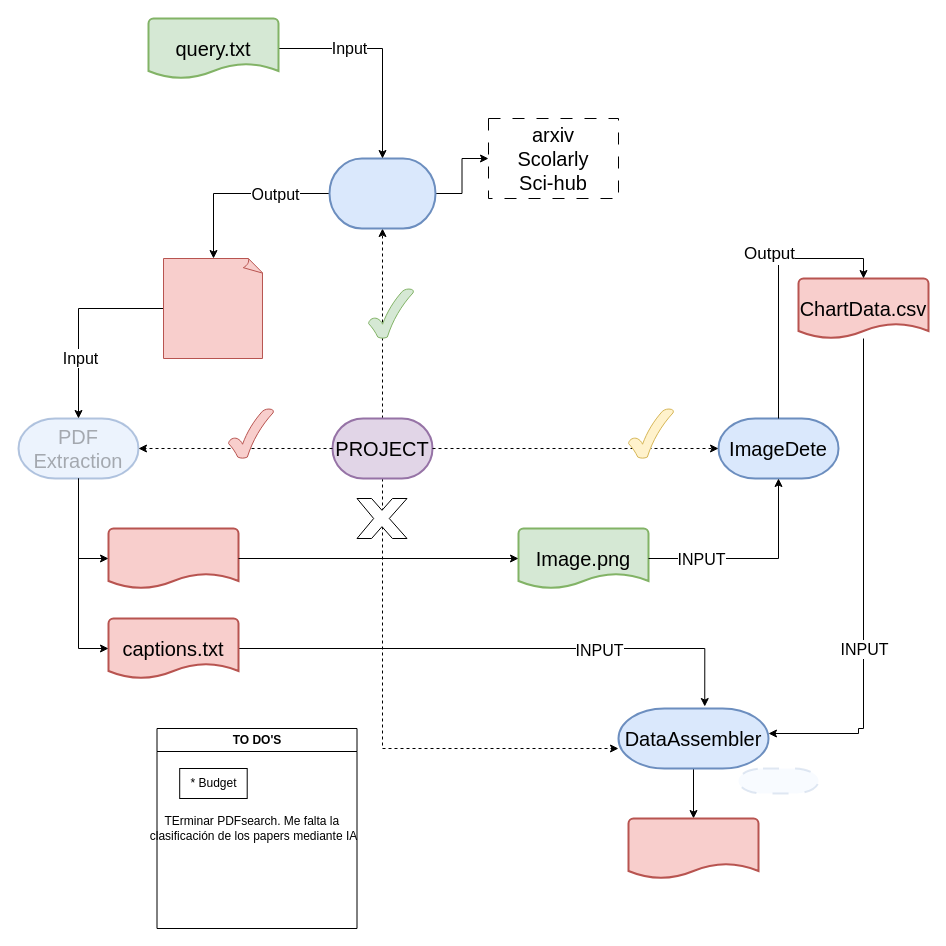
This 946x946 diagram has some shape labels left out. Each missing label, with the centre of its shape:
figures.png: point 173,558
List: point 693,848
PDFs: point 213,308
PDFSearch: point 382,193
Property: point 778,780
